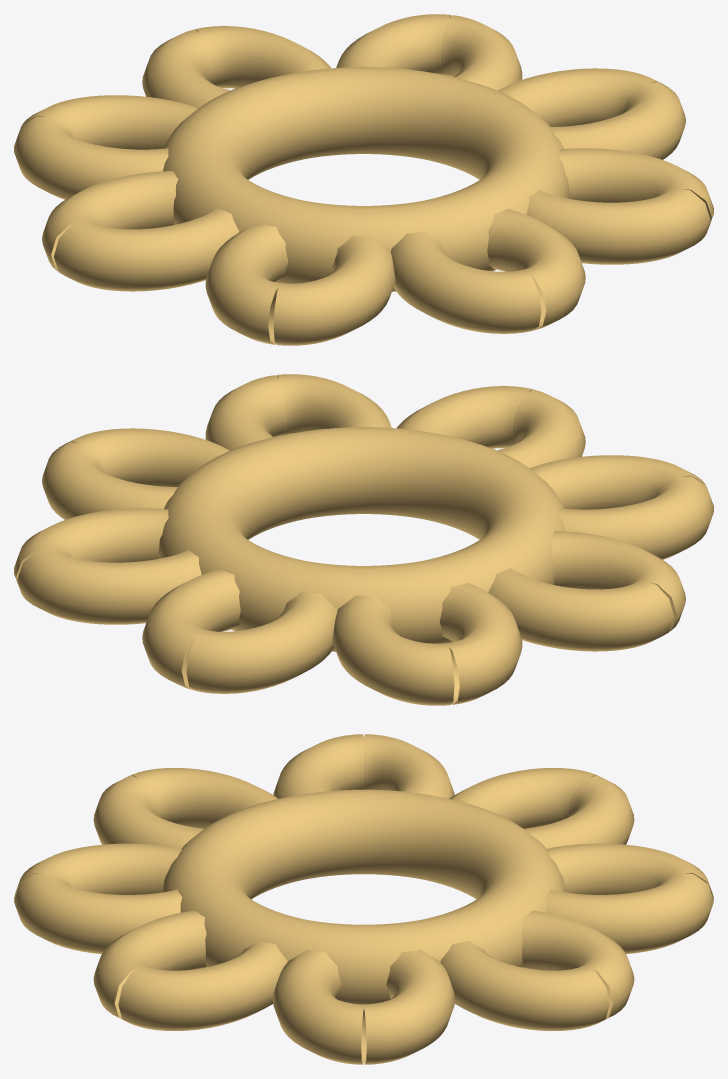
The model's file is spacer-15-gold.glb.
The picture shows the model from 3 angles, top to bottom: view 1: azimuth 30°, elevation 25°; view 2: azimuth 150°, elevation 25°; view 3: azimuth 270°, elevation 25°; orthographic projection. The views are drawn at different scales.
Parts seen in each view (by area): view 1: Spacer with through bore.022, Wire detail.052, Wire detail.054, Wire detail.053, Wire detail.055, Wire detail.051, Wire detail.048, Wire detail.050, Wire detail.049; view 2: Spacer with through bore.022, Wire detail.052, Wire detail.050, Wire detail.051, Wire detail.049, Wire detail.053, Wire detail.048, Wire detail.054, Wire detail.055; view 3: Spacer with through bore.022, Wire detail.049, Wire detail.055, Wire detail.048, Wire detail.050, Wire detail.054, Wire detail.051, Wire detail.053, Wire detail.052.
Part boxes in pixels (bbox=[...]): Spacer with through bore.022: bbox=[163, 67, 569, 291]; Wire detail.052: bbox=[42, 171, 239, 291]; Wire detail.054: bbox=[391, 209, 585, 333]; Wire detail.053: bbox=[205, 223, 395, 345]; Wire detail.055: bbox=[526, 148, 713, 264]; Wire detail.051: bbox=[14, 95, 197, 199]; Wire detail.048: bbox=[498, 68, 685, 159]; Wire detail.050: bbox=[142, 26, 330, 108]; Wire detail.049: bbox=[336, 14, 522, 90]; Spacer with through bore.022: bbox=[158, 427, 564, 651]; Wire detail.052: bbox=[488, 531, 685, 651]; Wire detail.050: bbox=[142, 569, 336, 693]; Wire detail.051: bbox=[332, 583, 522, 705]; Wire detail.049: bbox=[14, 508, 201, 624]; Wire detail.053: bbox=[530, 455, 713, 559]; Wire detail.048: bbox=[42, 428, 229, 519]; Wire detail.054: bbox=[397, 386, 585, 468]; Wire detail.055: bbox=[205, 374, 391, 450]; Spacer with through bore.022: bbox=[162, 789, 565, 1004]; Wire detail.049: bbox=[440, 910, 634, 1030]; Wire detail.055: bbox=[93, 910, 287, 1030]; Wire detail.048: bbox=[272, 950, 455, 1064]; Wire detail.050: bbox=[545, 843, 713, 954]; Wire detail.054: bbox=[14, 843, 182, 954]; Wire detail.051: bbox=[449, 768, 634, 848]; Wire detail.053: bbox=[93, 768, 278, 848]; Wire detail.052: bbox=[273, 734, 454, 798].
Size of the model in its own units: 0.0046 by 0.00056 by 0.0046.
